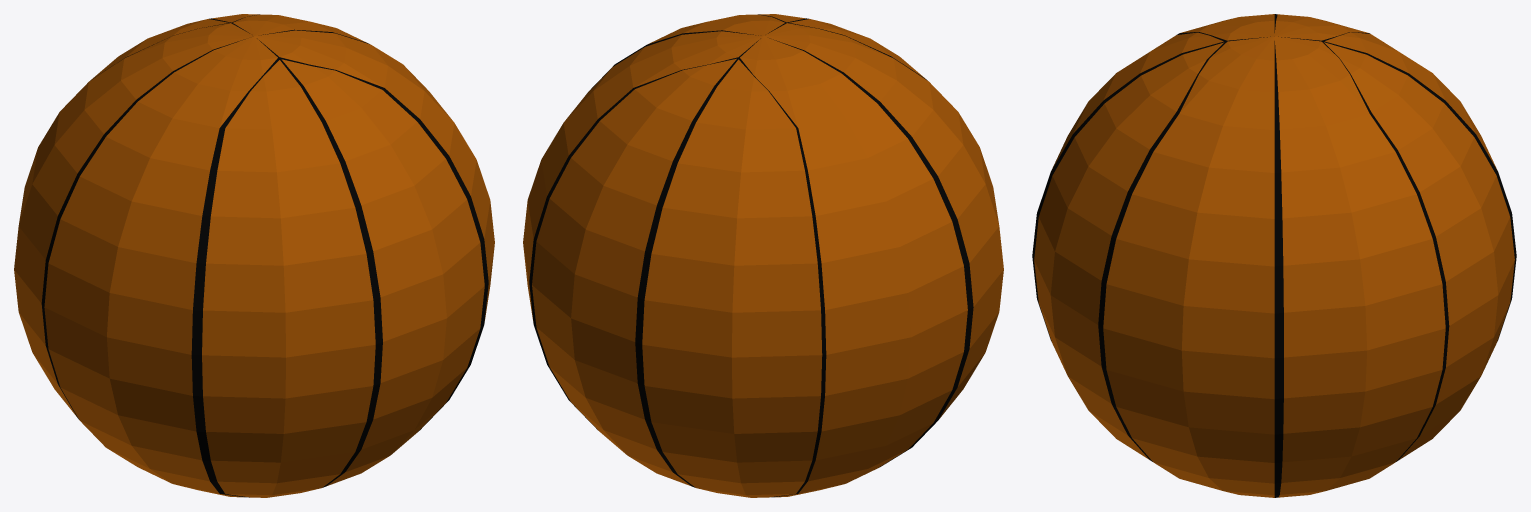
The model's file is SM_Basket.fbx.
3 renders of one model, left to right at view 1: azimuth 30°, elevation 25°; view 2: azimuth 150°, elevation 25°; view 3: azimuth 270°, elevation 25°, orthographic.
Visible parts, largest first — view 1: pSphere12; view 2: pSphere12; view 3: pSphere12.
Part boxes in pixels (left/top/right/bottom): pSphere12: left=14, top=14, right=494, bottom=497; pSphere12: left=523, top=14, right=1003, bottom=497; pSphere12: left=1032, top=14, right=1516, bottom=497.
Size of the model in its own units: 0.2963 by 0.2963 by 0.2963.
